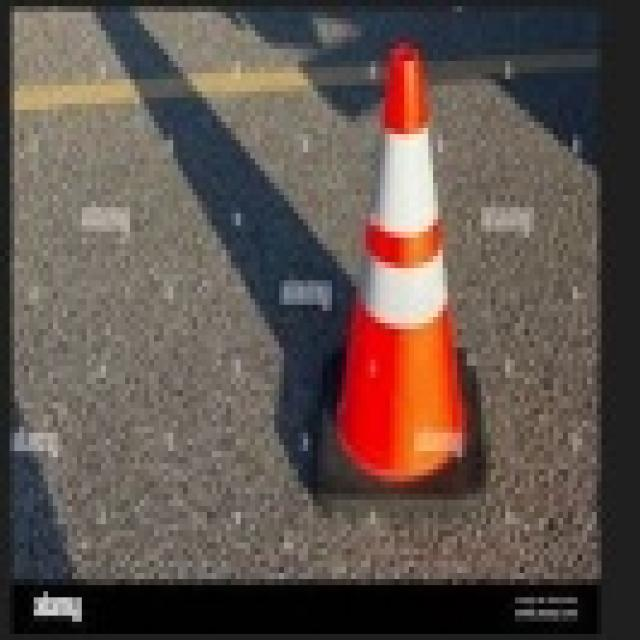cone: (322, 54, 539, 493)
